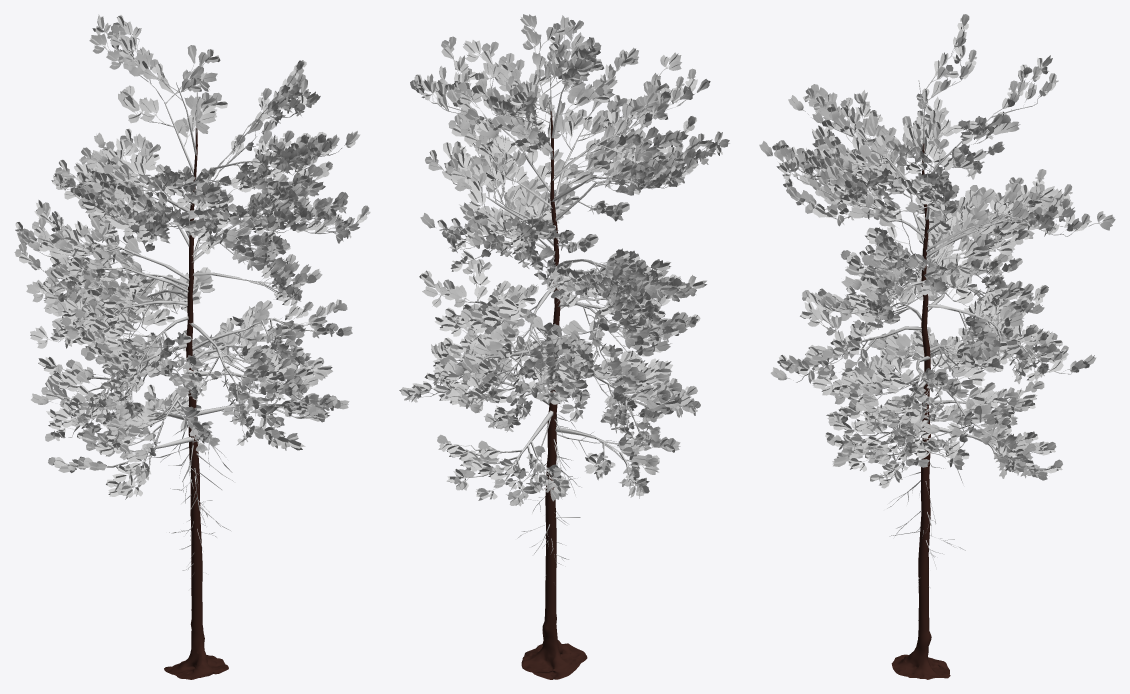
Rendered from pine_b_lod0.obj.
3 views of the same model, side by side, from view 1: azimuth 30°, elevation 25°; view 2: azimuth 150°, elevation 25°; view 3: azimuth 270°, elevation 25° (orthographic). The views are drawn at different scales.
Visible parts, largest first — view 1: pine_b_lod0; view 2: pine_b_lod0; view 3: pine_b_lod0.
Part boxes in pixels (<box>): pine_b_lod0: <box>14,14,370,679</box>; pine_b_lod0: <box>399,14,729,679</box>; pine_b_lod0: <box>759,14,1115,679</box>.
Size of the model in its own units: 284 by 586 by 300.
